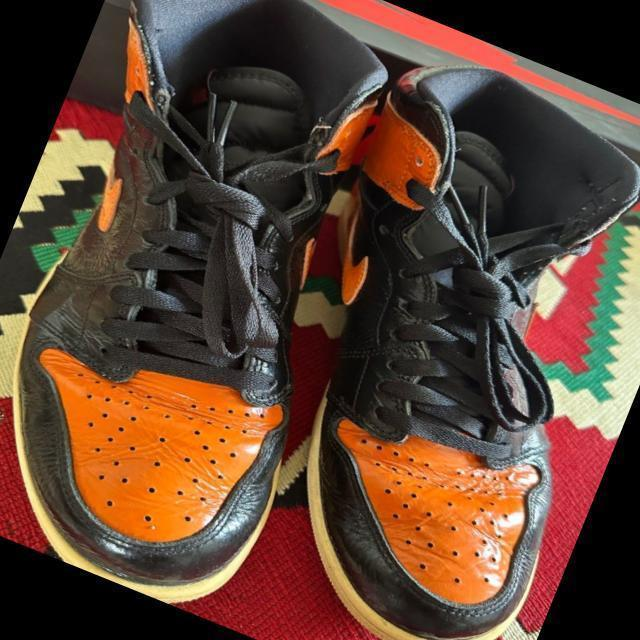nike original jordan 1: (160, 20, 640, 640), (0, 0, 454, 626)
